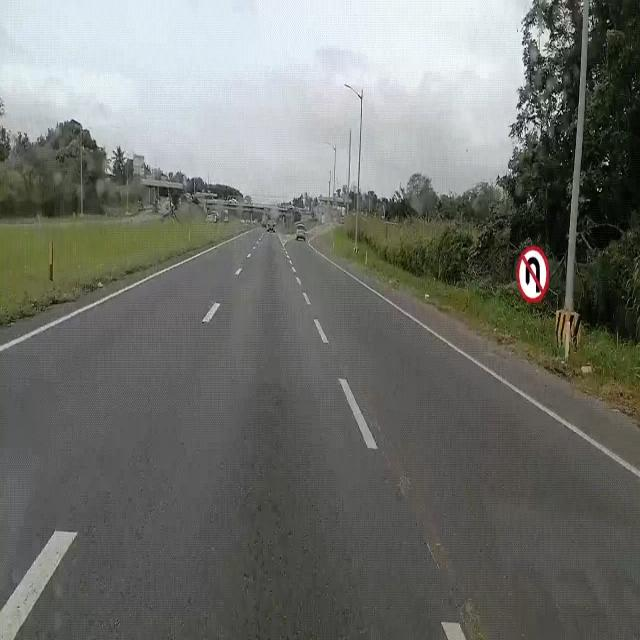Demi-Tour-Interdit: (514, 238, 550, 313)
